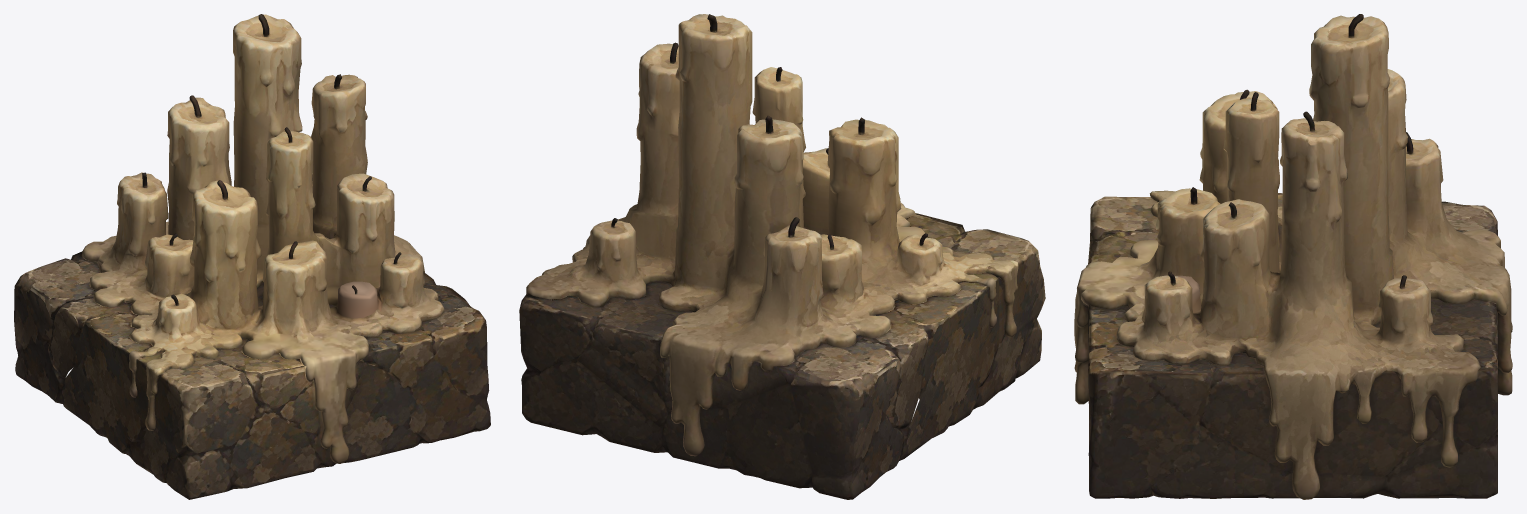
Rendered from dungeon-prop-candle-cluster.glb.
3 renders of one model, left to right at view 1: azimuth 30°, elevation 25°; view 2: azimuth 150°, elevation 25°; view 3: azimuth 270°, elevation 25°, orthographic. The views are drawn at different scales.
Visible parts, largest first — view 1: candle-cluster; view 2: candle-cluster; view 3: candle-cluster.
Boxes of the visible parts, left/top/right/bottom form: candle-cluster: left=14, top=14, right=490, bottom=499; candle-cluster: left=519, top=14, right=1045, bottom=499; candle-cluster: left=1074, top=14, right=1512, bottom=499.
Size of the model in its own units: 0.7676 by 0.7996 by 0.7582.
1 material, 1 textured.
